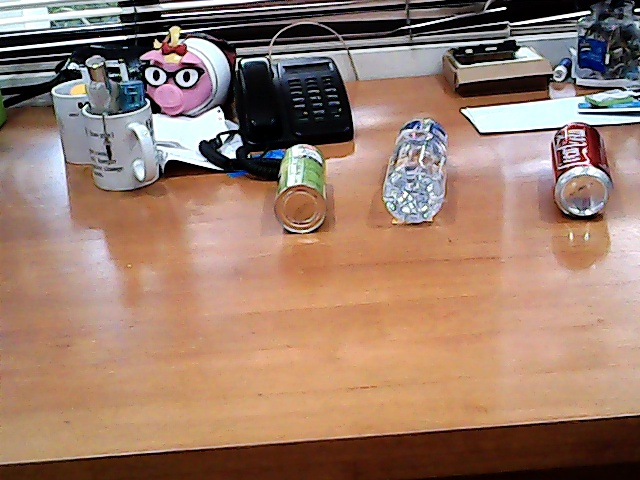Cola: (527, 114, 628, 245)
Pine Juice: (261, 128, 347, 250)
Summit Water: (370, 98, 465, 239)
